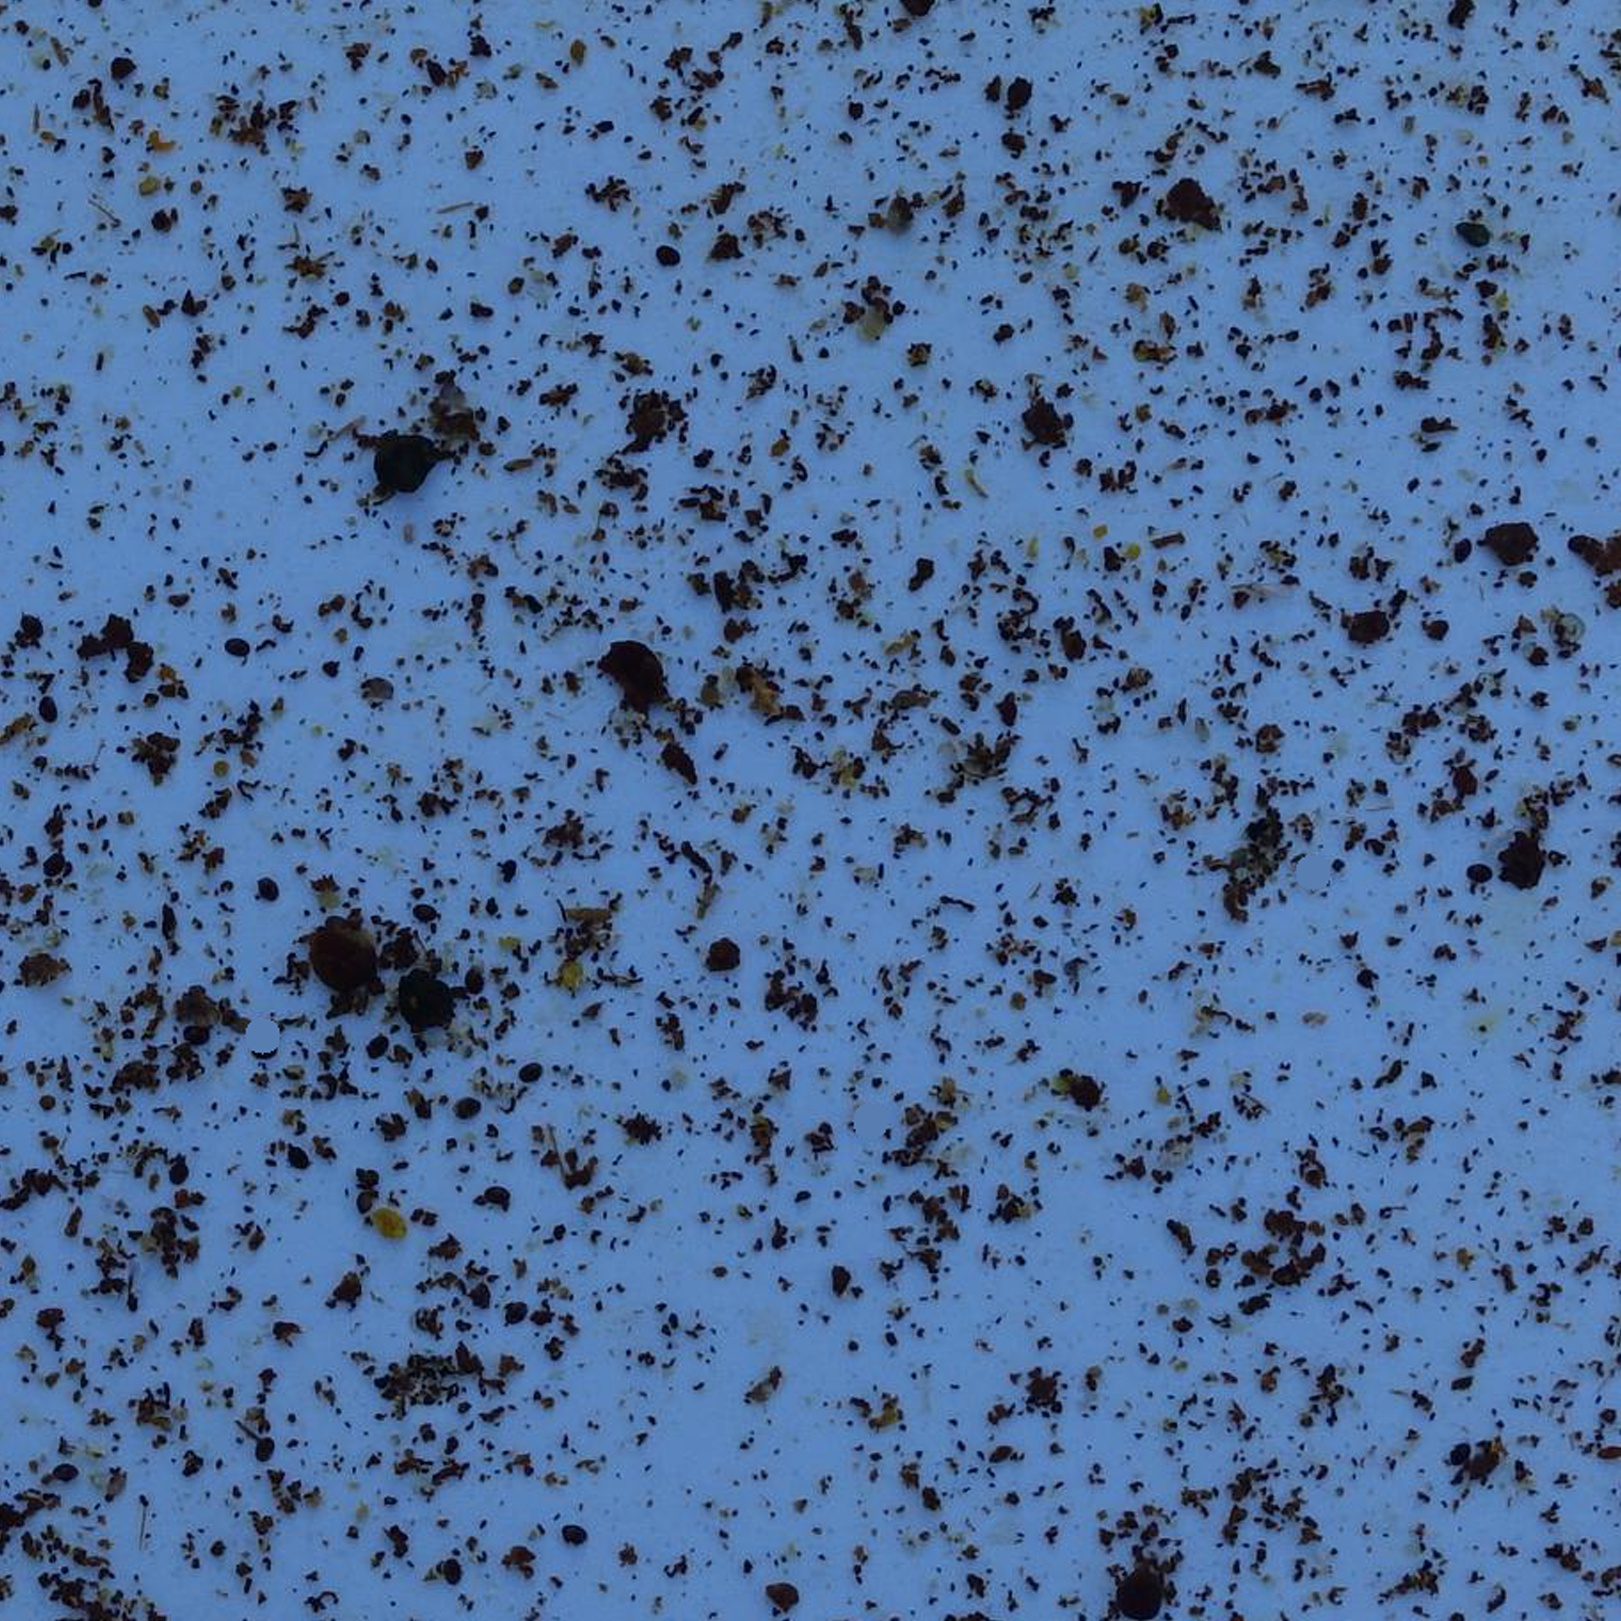Varroa: (242, 1003, 288, 1051), (7, 600, 53, 646), (240, 1026, 286, 1072), (456, 1269, 502, 1315), (517, 1057, 548, 1090), (448, 1096, 479, 1128), (48, 1459, 79, 1492), (27, 690, 56, 724), (460, 969, 491, 1001), (558, 1523, 589, 1554), (410, 900, 439, 931), (1444, 1435, 1474, 1467), (502, 1300, 531, 1330), (481, 1182, 511, 1211), (223, 629, 252, 659), (368, 1032, 398, 1061), (284, 1142, 313, 1171), (352, 1191, 381, 1220), (653, 235, 681, 266), (1444, 534, 1476, 563), (181, 1021, 212, 1049), (435, 1556, 465, 1584), (248, 1431, 276, 1461), (254, 871, 282, 900), (45, 849, 73, 877), (163, 1158, 191, 1186), (1467, 859, 1496, 886)
